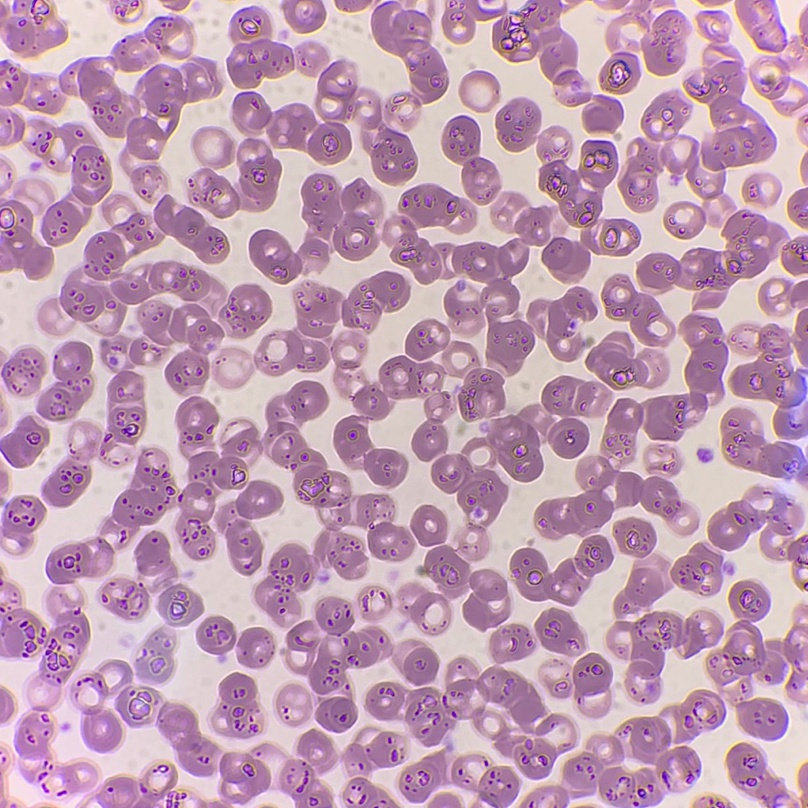RBC: (255, 400, 413, 620), (383, 216, 533, 372), (365, 668, 575, 778), (563, 690, 723, 806), (61, 213, 215, 322), (537, 126, 639, 280), (707, 581, 807, 738), (249, 174, 382, 282), (78, 59, 221, 159), (637, 211, 781, 308), (432, 405, 542, 530), (535, 458, 686, 538), (177, 429, 258, 559), (645, 315, 726, 440), (615, 611, 722, 702), (685, 61, 773, 170), (293, 597, 392, 693), (731, 325, 807, 438), (233, 92, 350, 163), (0, 593, 89, 684), (137, 301, 221, 391), (371, 4, 447, 103), (419, 546, 509, 629), (492, 0, 579, 85), (510, 536, 611, 604), (30, 120, 111, 204), (193, 139, 280, 217), (216, 481, 282, 574), (708, 487, 801, 549), (105, 457, 174, 539), (539, 376, 606, 457), (353, 356, 438, 419), (101, 336, 146, 451), (227, 10, 293, 88), (721, 408, 794, 477), (334, 416, 407, 485), (602, 275, 673, 345), (154, 197, 228, 262), (43, 422, 100, 506), (442, 116, 497, 203), (38, 341, 93, 420), (620, 142, 683, 210), (158, 703, 217, 775), (0, 199, 52, 278), (280, 731, 332, 807), (361, 112, 416, 183), (342, 272, 409, 329), (0, 0, 66, 56), (727, 744, 786, 806), (399, 184, 475, 230), (452, 755, 518, 807), (587, 332, 647, 389), (101, 765, 178, 807), (0, 63, 62, 113), (46, 538, 112, 583), (547, 288, 595, 348), (212, 673, 257, 736), (641, 13, 684, 75), (220, 284, 270, 337), (267, 331, 328, 374), (0, 495, 44, 554), (602, 398, 643, 461), (671, 544, 721, 595), (412, 392, 449, 460), (0, 416, 49, 467), (316, 61, 359, 119), (220, 753, 269, 802), (736, 0, 783, 51), (573, 654, 611, 717), (496, 98, 540, 151), (641, 92, 689, 140), (459, 369, 504, 420), (614, 568, 663, 614), (400, 752, 446, 801), (536, 609, 584, 655), (297, 287, 340, 337), (177, 397, 218, 449), (0, 348, 45, 393), (137, 630, 175, 682), (345, 732, 397, 770), (286, 621, 326, 670), (42, 202, 87, 245), (135, 532, 176, 577), (148, 17, 192, 58), (284, 381, 327, 422), (442, 0, 486, 40), (158, 585, 202, 625), (106, 578, 148, 619), (405, 320, 449, 359), (84, 706, 121, 750), (600, 52, 639, 93), (685, 157, 724, 198), (117, 686, 158, 725), (613, 518, 655, 556), (490, 624, 532, 662), (193, 128, 234, 166), (460, 71, 498, 111), (112, 37, 156, 71), (759, 279, 807, 310), (664, 202, 705, 238), (345, 778, 395, 807), (197, 616, 235, 654), (582, 96, 622, 131), (411, 505, 446, 545), (239, 627, 274, 667), (92, 660, 132, 695), (18, 715, 52, 756), (515, 207, 552, 244), (401, 647, 438, 684), (316, 697, 356, 731), (283, 0, 325, 32), (766, 538, 807, 568), (782, 237, 807, 273), (298, 44, 326, 74), (794, 309, 807, 365), (410, 592, 435, 621), (788, 189, 807, 226), (0, 113, 24, 141), (758, 76, 787, 98), (131, 169, 151, 198), (787, 669, 807, 695), (561, 338, 582, 360), (521, 788, 545, 807), (0, 688, 13, 722), (548, 678, 571, 697), (63, 766, 79, 791), (430, 794, 459, 807), (743, 176, 758, 201), (335, 0, 369, 10), (799, 765, 807, 806), (564, 92, 589, 105), (553, 786, 567, 807), (59, 78, 76, 94), (528, 300, 545, 316), (388, 94, 407, 108), (115, 0, 138, 11), (694, 797, 718, 807), (800, 11, 807, 43), (509, 193, 524, 206), (634, 0, 649, 12), (169, 0, 187, 9), (798, 467, 807, 485), (336, 360, 354, 368), (0, 470, 7, 490), (607, 33, 617, 46), (668, 462, 679, 473), (198, 802, 220, 807), (610, 0, 625, 7), (452, 342, 464, 350), (149, 166, 158, 176), (618, 648, 627, 657), (716, 34, 725, 42), (781, 61, 789, 70), (802, 157, 807, 171), (800, 625, 807, 635), (371, 98, 379, 106), (778, 103, 786, 111), (102, 203, 110, 211), (276, 700, 284, 708), (668, 781, 676, 789), (801, 605, 807, 615), (708, 0, 721, 4), (658, 0, 668, 4), (0, 137, 5, 145), (0, 418, 5, 426), (0, 803, 5, 807)
